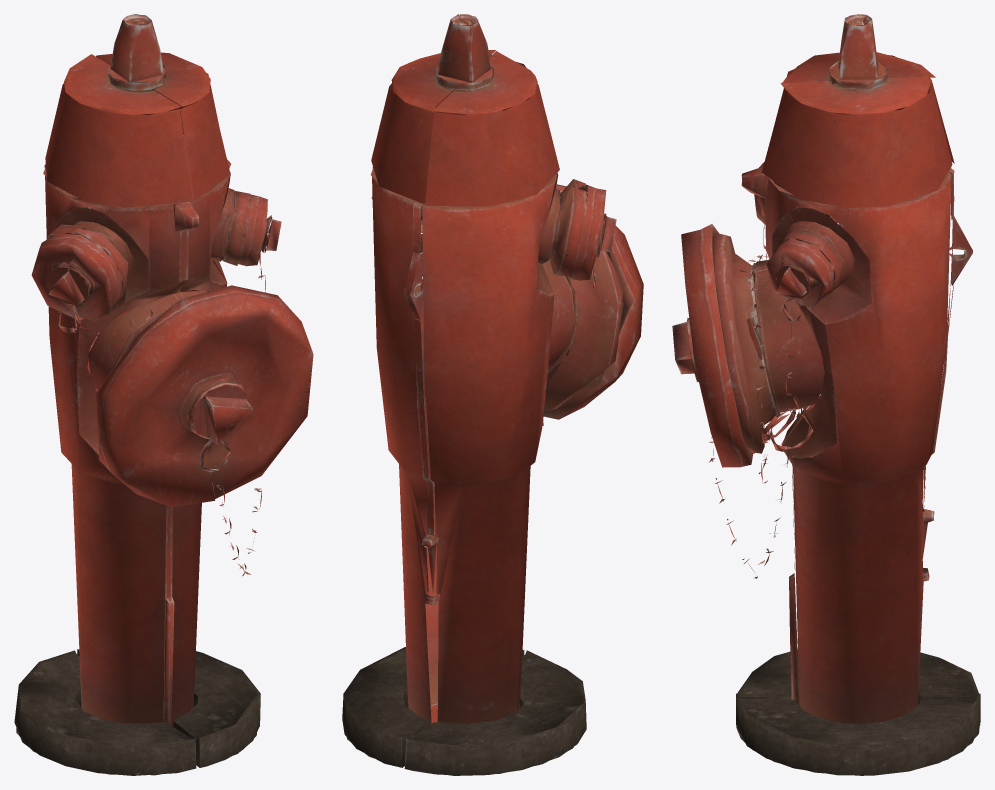
File: fire_hydrant.glb
The picture shows the model from 3 angles, left to right: view 1: azimuth 30°, elevation 25°; view 2: azimuth 150°, elevation 25°; view 3: azimuth 270°, elevation 25°; orthographic projection.
Parts seen in each view (by area): view 1: LOD0; view 2: LOD0; view 3: LOD0.
Boxes of the visible parts, left/top/right/bottom form: LOD0: left=14, top=14, right=313, bottom=775; LOD0: left=342, top=14, right=643, bottom=775; LOD0: left=672, top=14, right=980, bottom=775.
Bounding box in the file's own units: 0.2742 × 0.8003 × 0.3173.
1 material, 1 textured.
